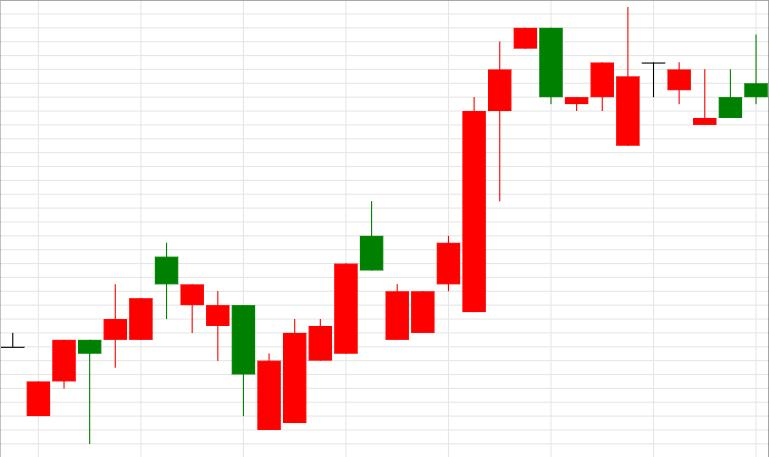bearish_engulfing_fall: (386, 27, 562, 340)
